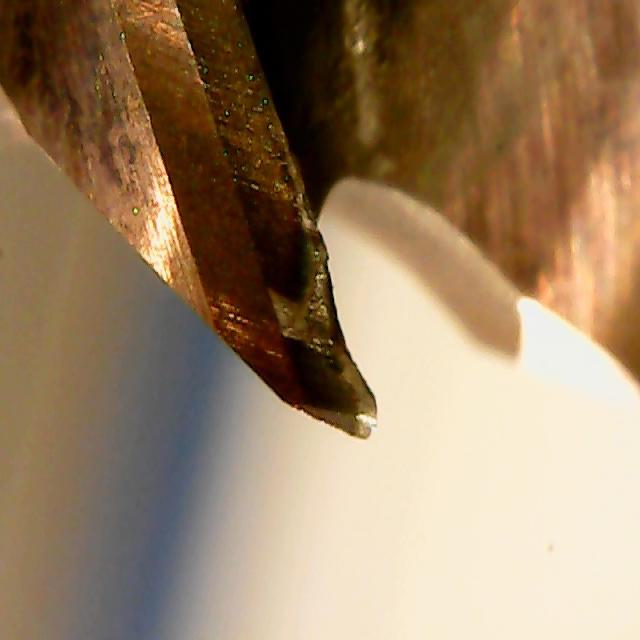Tool-wear-class-2: (221, 197, 398, 443)
